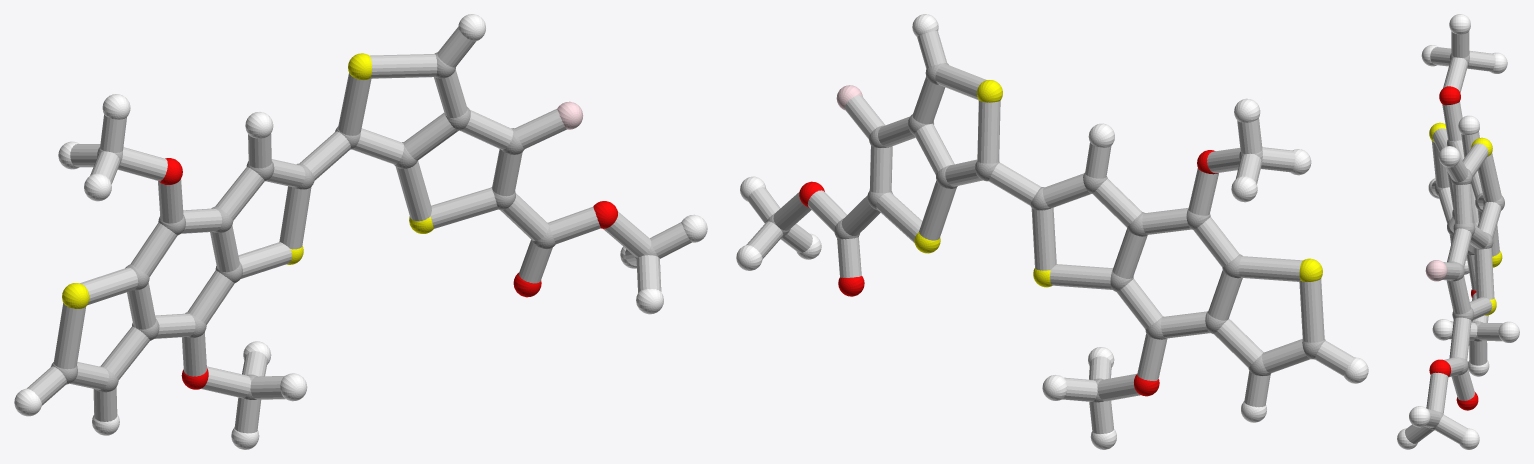
File: Dimethoxy_Benzodithiophene_Phi_30_Theta_350_Methylcarbonyl_3_Fluoro_Thienothiophene.glb
The picture shows the model from 3 angles, left to right: view 1: azimuth 30°, elevation 25°; view 2: azimuth 150°, elevation 25°; view 3: azimuth 270°, elevation 25°; orthographic projection. The views are drawn at different scales.
Visible parts, largest first — view 1: grp15205, grp8689, grp1, grp13395, grp7241; view 2: grp15205, grp8689, grp1, grp7241, grp13395; view 3: grp15205, grp8689, grp1, grp13395, grp7241, grp14843.
Boxes of the visible parts, bbox=[...] form: grp15205: bbox=[27, 27, 691, 433]; grp8689: bbox=[14, 14, 707, 449]; grp1: bbox=[51, 52, 657, 399]; grp13395: bbox=[159, 158, 617, 389]; grp7241: bbox=[62, 53, 433, 308]; grp15205: bbox=[746, 30, 1354, 433]; grp8689: bbox=[736, 14, 1368, 449]; grp1: bbox=[766, 63, 1325, 402]; grp7241: bbox=[914, 80, 1322, 287]; grp13395: bbox=[799, 150, 1217, 396]; grp15205: bbox=[1405, 31, 1502, 443]; grp8689: bbox=[1397, 14, 1519, 449]; grp1: bbox=[1428, 53, 1504, 429]; grp13395: bbox=[1429, 86, 1478, 410]; grp7241: bbox=[1429, 122, 1502, 315]; grp14843: bbox=[1425, 260, 1447, 281].
Bounding box in the file's own units: 16.73 × 9.36 × 3.39.
